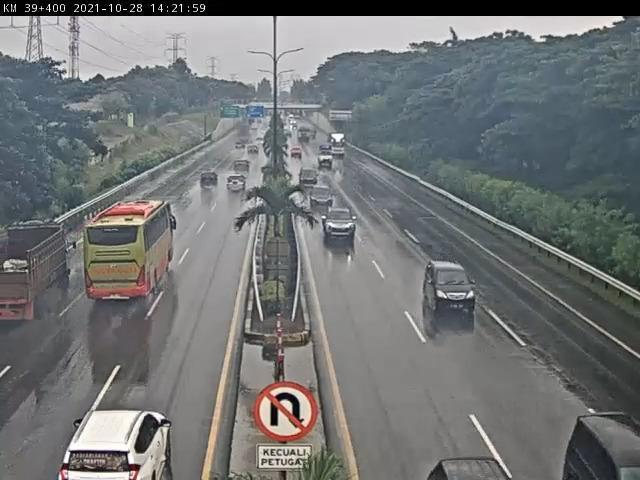bus: (84, 203, 175, 304)
car: (58, 410, 173, 480), (421, 260, 477, 315), (322, 208, 360, 239), (312, 185, 335, 210), (227, 173, 249, 195), (300, 167, 323, 188), (198, 172, 221, 191), (233, 157, 254, 174)
truck: (2, 228, 73, 327)
